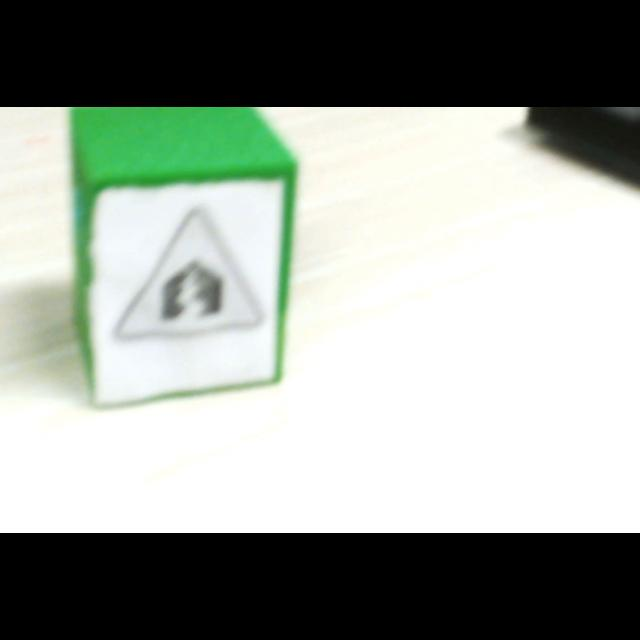Earthquake: (111, 207, 266, 344), (110, 230, 262, 342)
